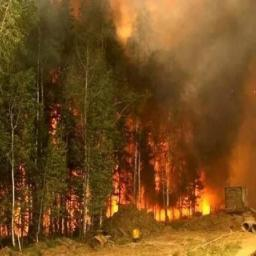Heavy smoke: (0, 0, 255, 208)
Medium fire: (0, 109, 255, 238)
